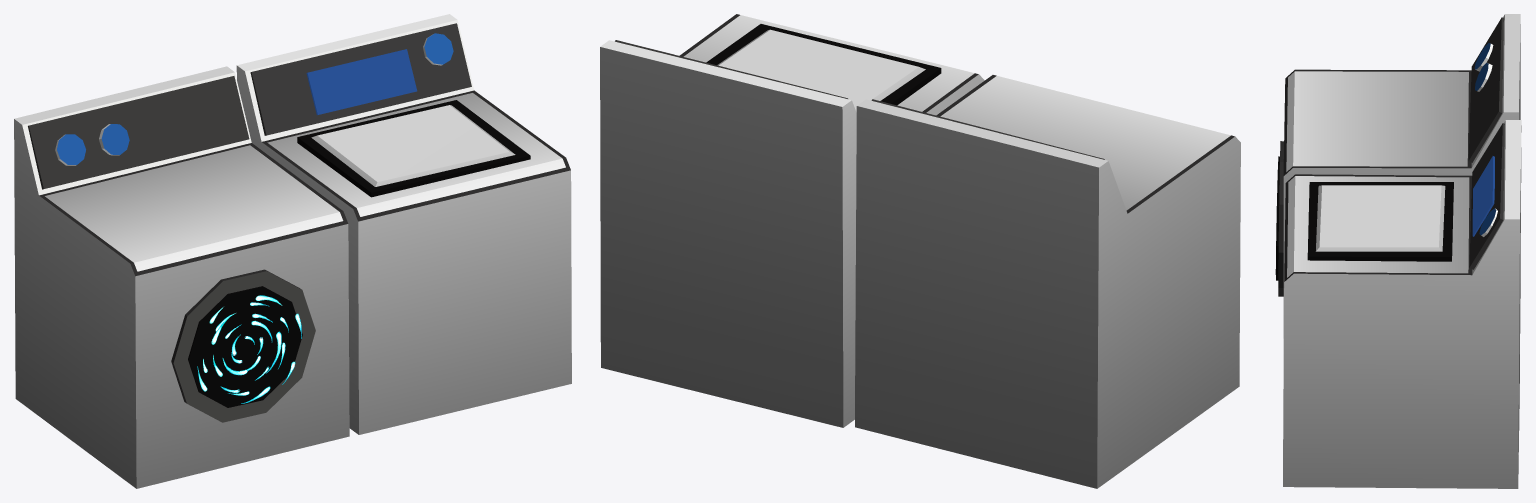
The model's file is lavarropas.gltf.
3 renders of one model, left to right at view 1: azimuth 30°, elevation 25°; view 2: azimuth 150°, elevation 25°; view 3: azimuth 270°, elevation 25°, orthographic. The views are drawn at different scales.
Parts seen in each view (by area): view 1: Lavarropas, Lavarropas_Sprite; view 2: Lavarropas; view 3: Lavarropas.
Boxes of the visible parts, box(x1,y1,x2,y2) form: Lavarropas: box(14, 14, 571, 488); Lavarropas_Sprite: box(197, 295, 301, 403); Lavarropas: box(600, 14, 1240, 488); Lavarropas: box(1275, 14, 1521, 488).
Size of what is drawn, in the model's own units: 0.7464 by 0.4625 by 0.3884.
Materials: 3 (3 with a texture image).
